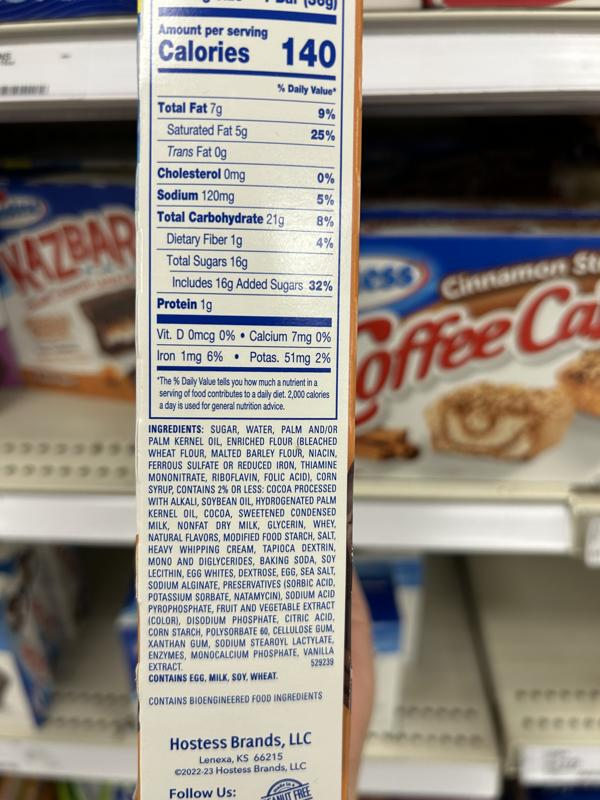ingredients: (146, 424, 338, 673)
